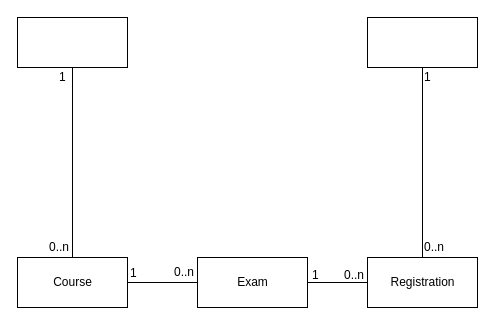
The diagram is 495 pixels wide and 325 high, and some of its shapes have lost their labels. The shapes that lost their labels are listed below. From the top down, each one's centre as x and y in pixels, then its label:
At point (72, 42): "Professor".
At point (422, 42): "Student".
